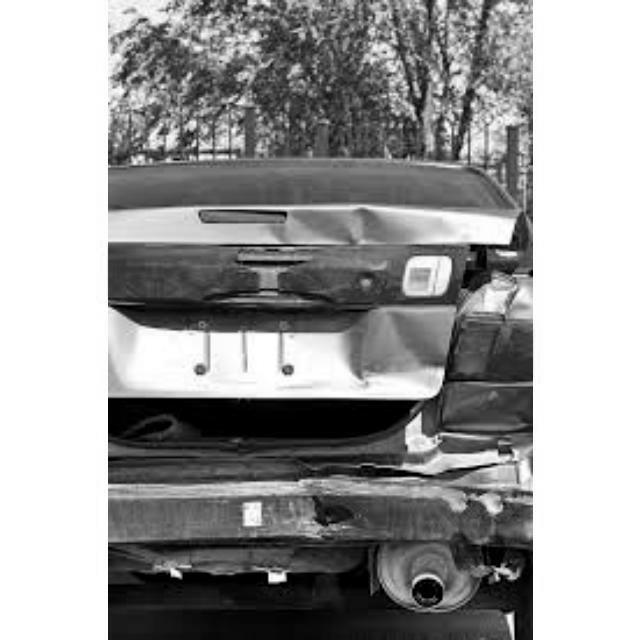boot-dent: (107, 219, 465, 463)
rear-bumper-dent: (108, 459, 533, 581)
